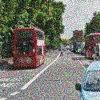cars: (76, 58, 100, 100)
